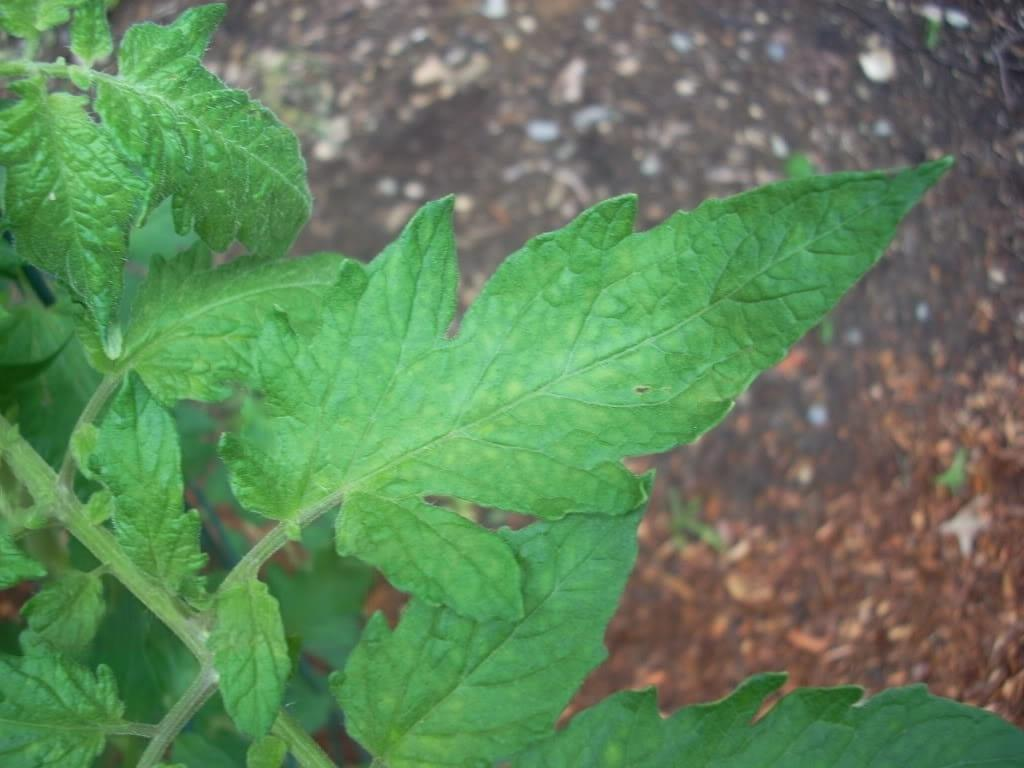Healthy: (92, 0, 318, 258), (0, 76, 147, 363), (83, 365, 213, 604), (199, 566, 295, 748)
Leaf Mold: (226, 148, 962, 620), (323, 465, 658, 768)
